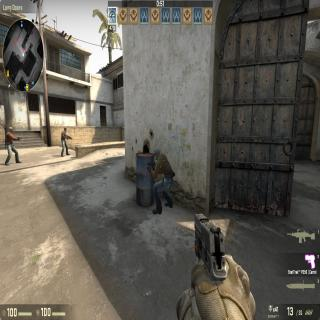T-Body: (149, 146, 174, 215), (4, 125, 16, 163), (61, 127, 69, 156)
T-Head: (152, 146, 162, 160), (8, 126, 13, 134), (64, 126, 67, 134)
